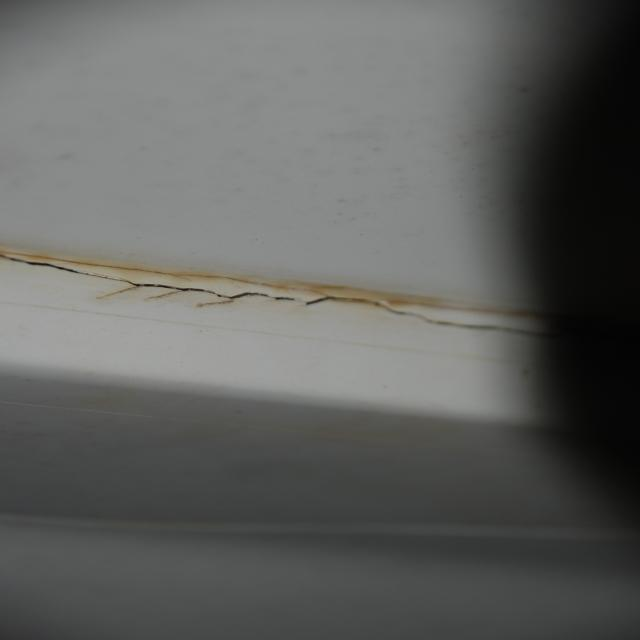Crack: (8, 255, 543, 339)
